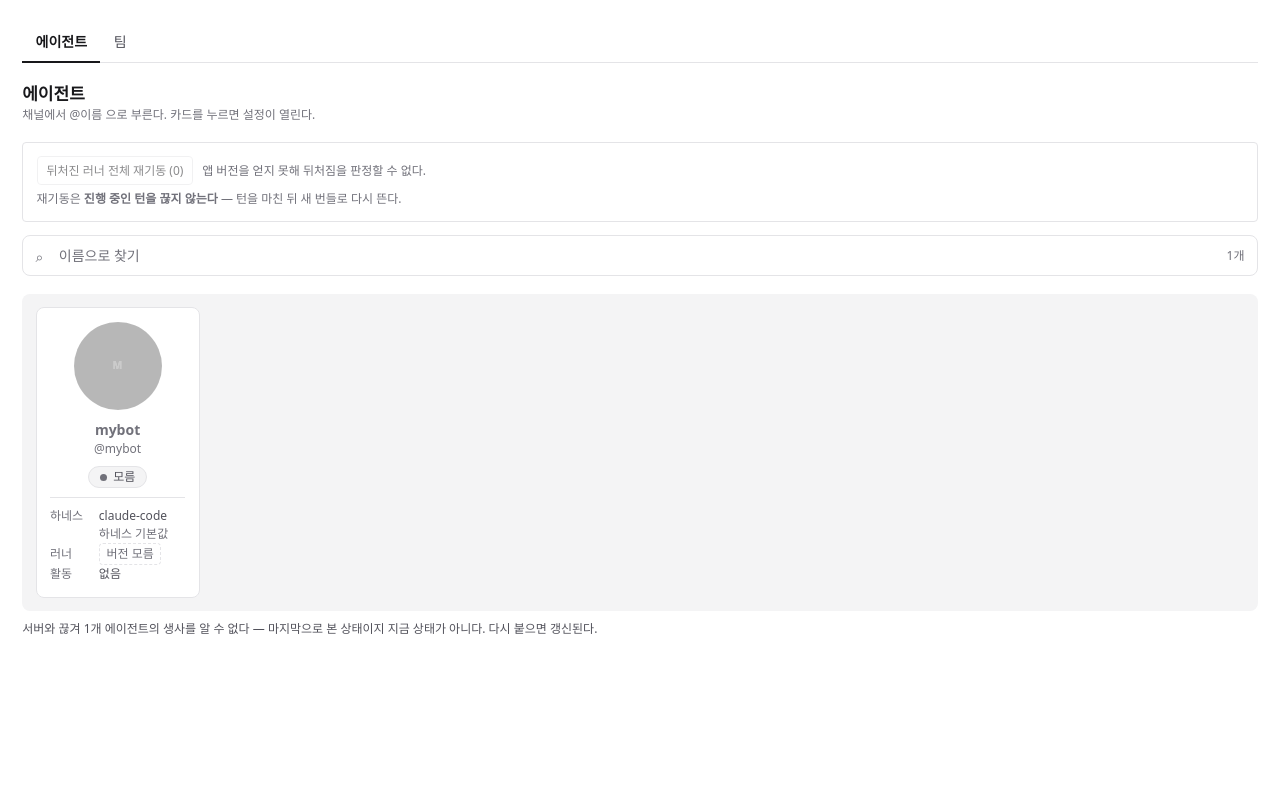
Test: 소유자의 에이전트 설정 화면 (#299) › 6. admin 전용 컨트롤은 소유자 화면에 **없다**(비활성이 아니라 부재)
Click the button with test id "agent-card-mybot" at (118, 390), box left=50, top=322, right=185, bottom=458
(page scrolled)
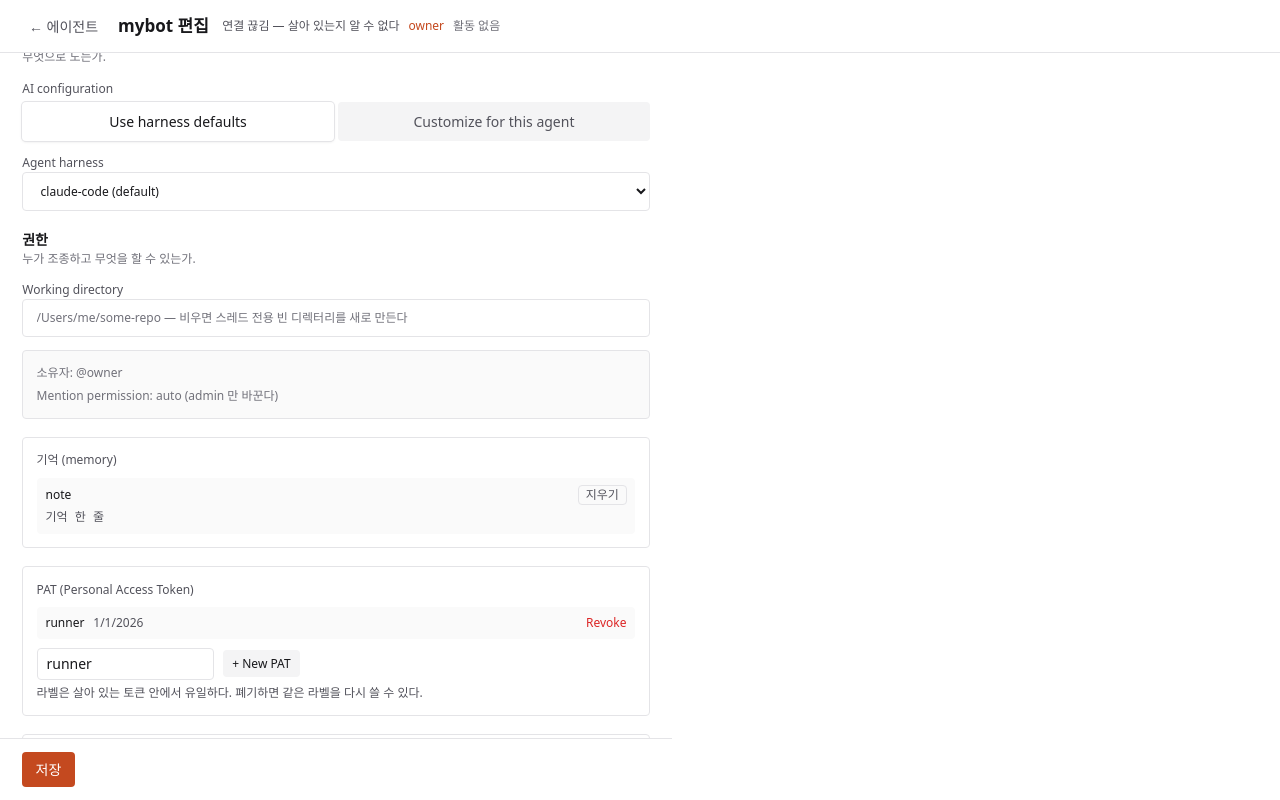
Now the field labelled "Working directory" is shown, box left=22, top=299, right=650, bottom=337
Now the text "Mention permission: auto (admin 만 바꾼다)" is shown, box left=37, top=387, right=278, bottom=404
